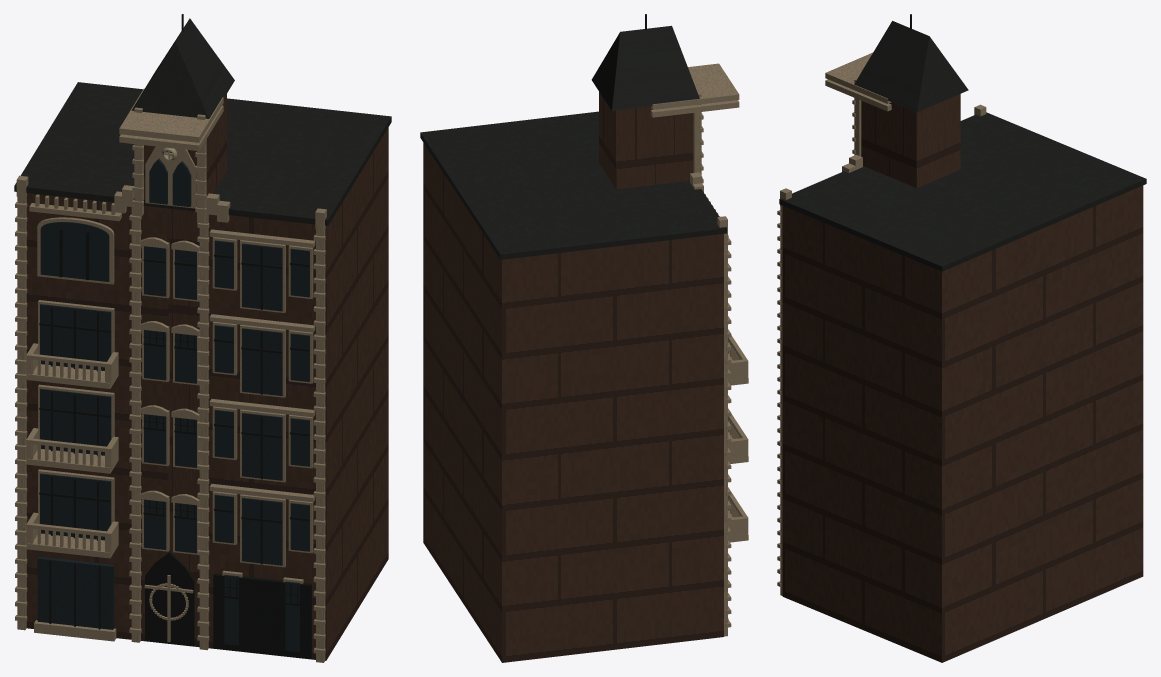
3 renders of one model, left to right at view 1: azimuth 30°, elevation 25°; view 2: azimuth 150°, elevation 25°; view 3: azimuth 270°, elevation 25°, orthographic. The views are drawn at different scales.
Visible parts, largest first — view 1: torenpand-kalverstraat-0, torenpand-kalverstraat-2, torenpand-kalverstraat-3, torenpand-kalverstraat-1, torenpand-kalverstraat-4; view 2: torenpand-kalverstraat-0, torenpand-kalverstraat-1, torenpand-kalverstraat-2; view 3: torenpand-kalverstraat-0, torenpand-kalverstraat-1, torenpand-kalverstraat-2.
Boxes of the visible parts, left/top/right/bottom form: torenpand-kalverstraat-0: left=26, top=94, right=388, bottom=660; torenpand-kalverstraat-2: left=15, top=88, right=326, bottom=662; torenpand-kalverstraat-3: left=37, top=151, right=309, bottom=652; torenpand-kalverstraat-1: left=14, top=18, right=391, bottom=225; torenpand-kalverstraat-4: left=39, top=14, right=311, bottom=658; torenpand-kalverstraat-0: left=423, top=92, right=723, bottom=662; torenpand-kalverstraat-1: left=420, top=25, right=726, bottom=259; torenpand-kalverstraat-2: left=651, top=63, right=748, bottom=636; torenpand-kalverstraat-0: left=782, top=94, right=1143, bottom=662; torenpand-kalverstraat-1: left=779, top=21, right=1146, bottom=271; torenpand-kalverstraat-2: left=777, top=52, right=986, bottom=595.
Bounding box in the file's own units: 15.87 × 25.81 × 15.68.
Materials: 6 (6 with a texture image).
